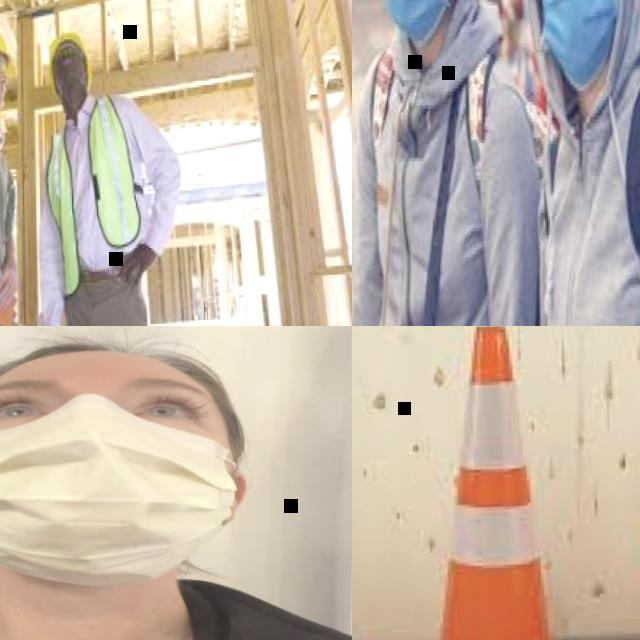Hardhat: (0, 336, 231, 398), (46, 32, 91, 92), (0, 28, 13, 56)
Mask: (0, 394, 245, 588), (532, 0, 622, 90), (376, 0, 450, 49)
NO-Mask: (57, 59, 81, 85)
NO-Safety Vest: (376, 57, 511, 326), (540, 75, 640, 326)
Person: (0, 326, 352, 640), (352, 0, 542, 326), (31, 24, 188, 326), (520, 0, 640, 326)
Safety Cone: (379, 326, 598, 640)
Safety Vest: (45, 98, 138, 294)
